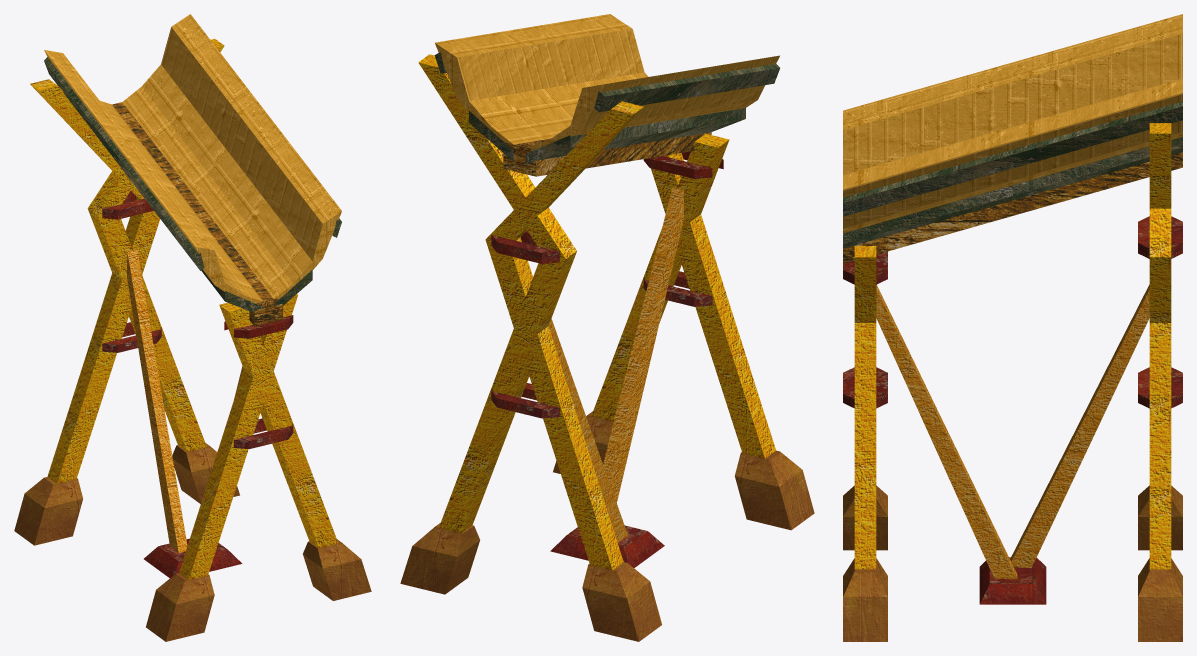
Rendered from aqslp.glb.
The picture shows the model from 3 angles, left to right: view 1: azimuth 30°, elevation 25°; view 2: azimuth 150°, elevation 25°; view 3: azimuth 270°, elevation 25°; orthographic projection. The views are drawn at different scales.
Visible parts, largest first — view 1: aqslp; view 2: aqslp; view 3: aqslp.
Part boxes in pixels (x1=…): aqslp: x1=14, y1=14, x2=371, y2=641; aqslp: x1=400, y1=14, x2=814, y2=641; aqslp: x1=843, y1=14, x2=1182, y2=641.
Bounding box in the file's own units: 5 × 11 × 6.38.
7 materials, 7 textured.
